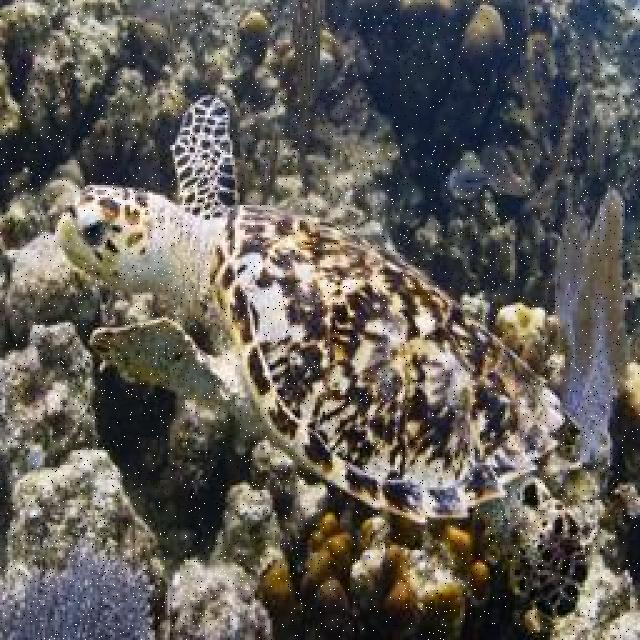fish: (54, 90, 591, 620)
